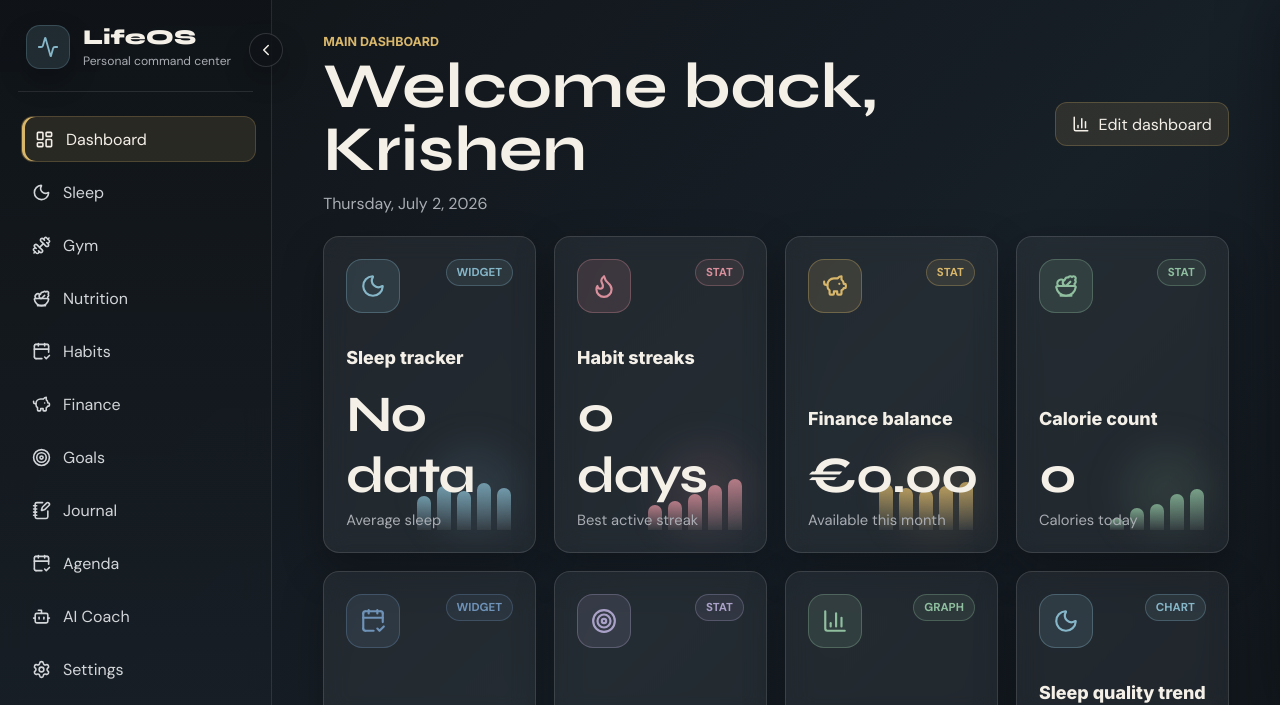
it: navigates to Sleep Tracker and saves a localStorage entry
Click the button "Sleep" at (136, 192), box [18, 169, 253, 215]
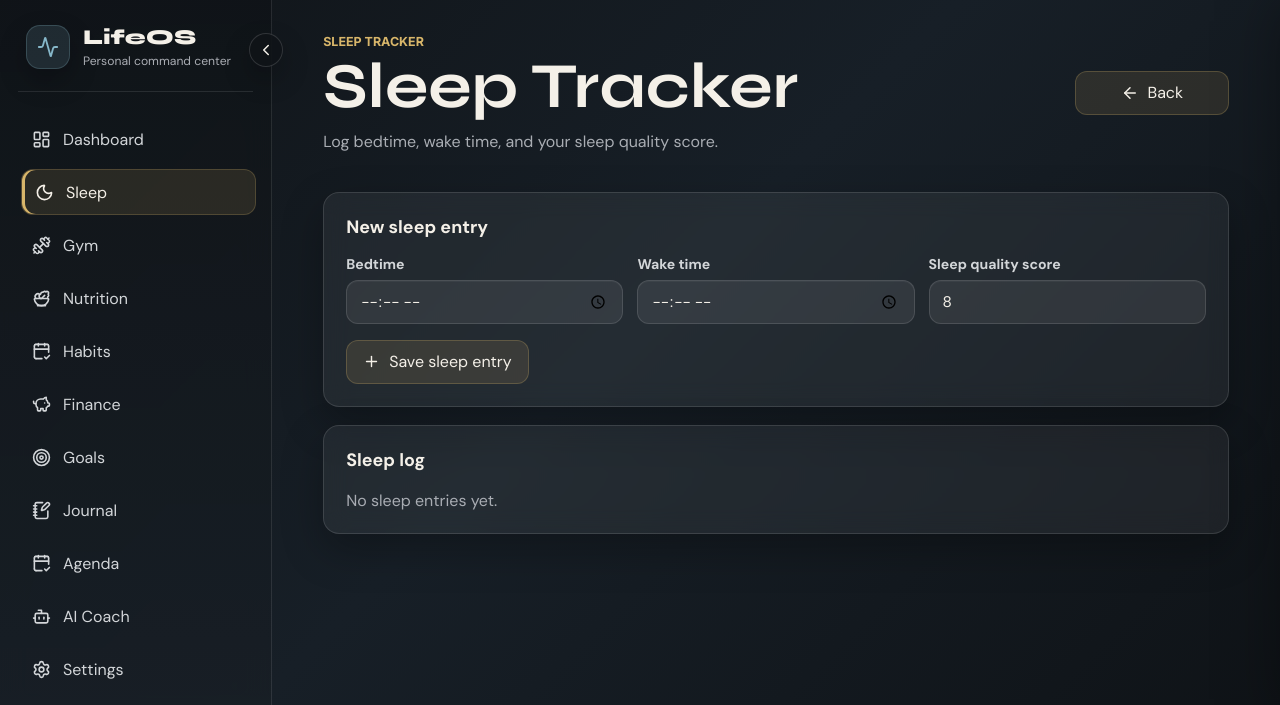
Expected: the heading "Sleep Tracker" is shown, [323, 56, 798, 119]
Type "22:30" into the time field labelled "Bedtime" at (485, 302), box [346, 280, 623, 324]
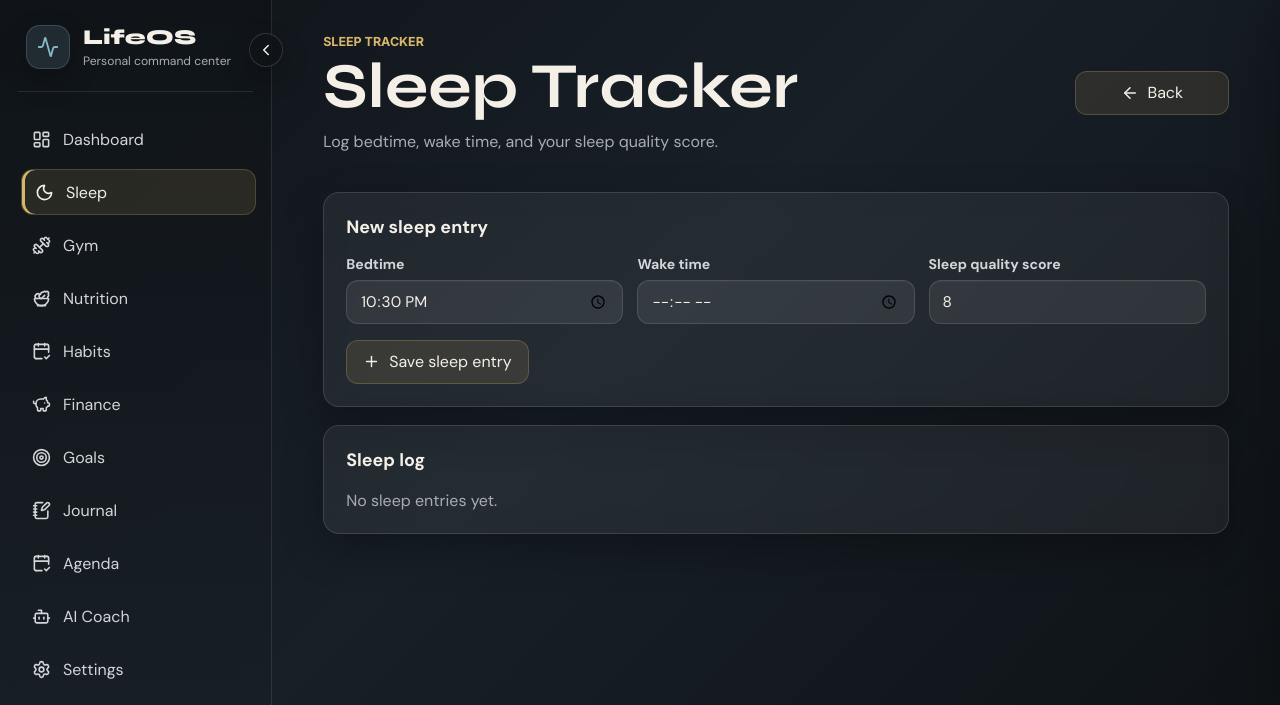
Type "06:45" into the time field labelled "Wake time" at (776, 302), box [637, 280, 915, 324]
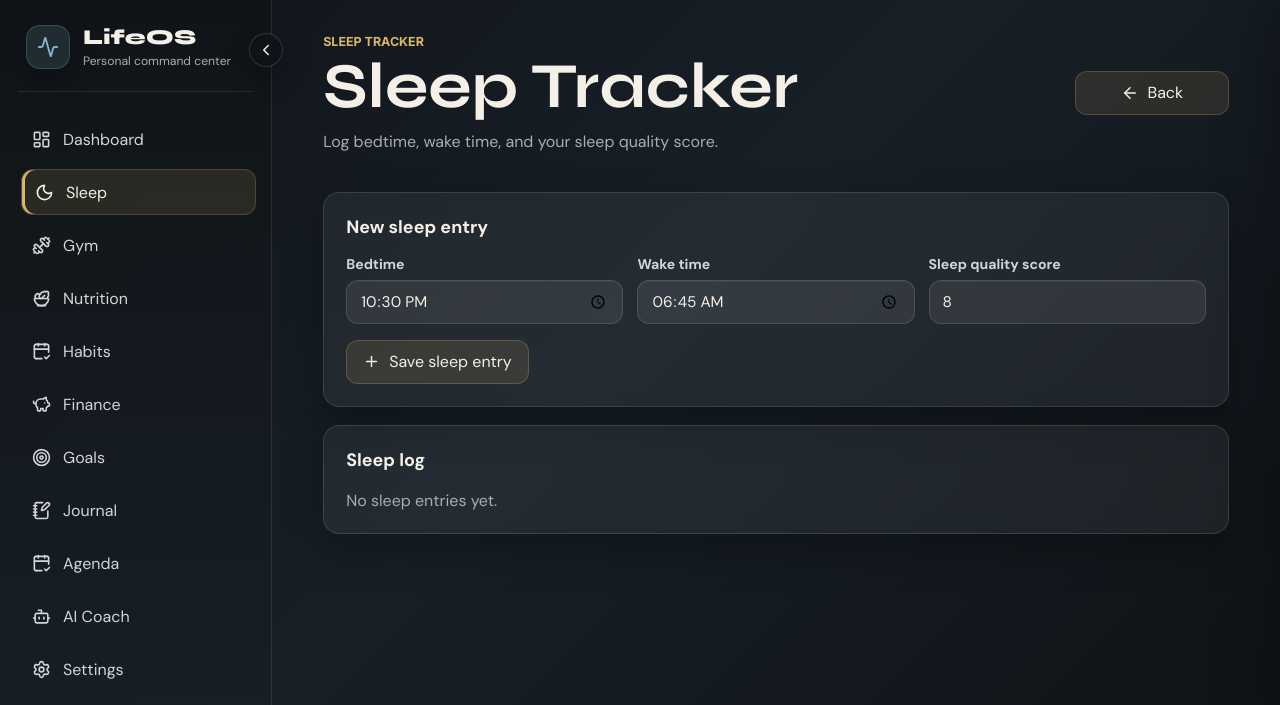
Replace the text in the number field labelled "Sleep quality score" with "9" at (1067, 302), box [929, 280, 1206, 324]
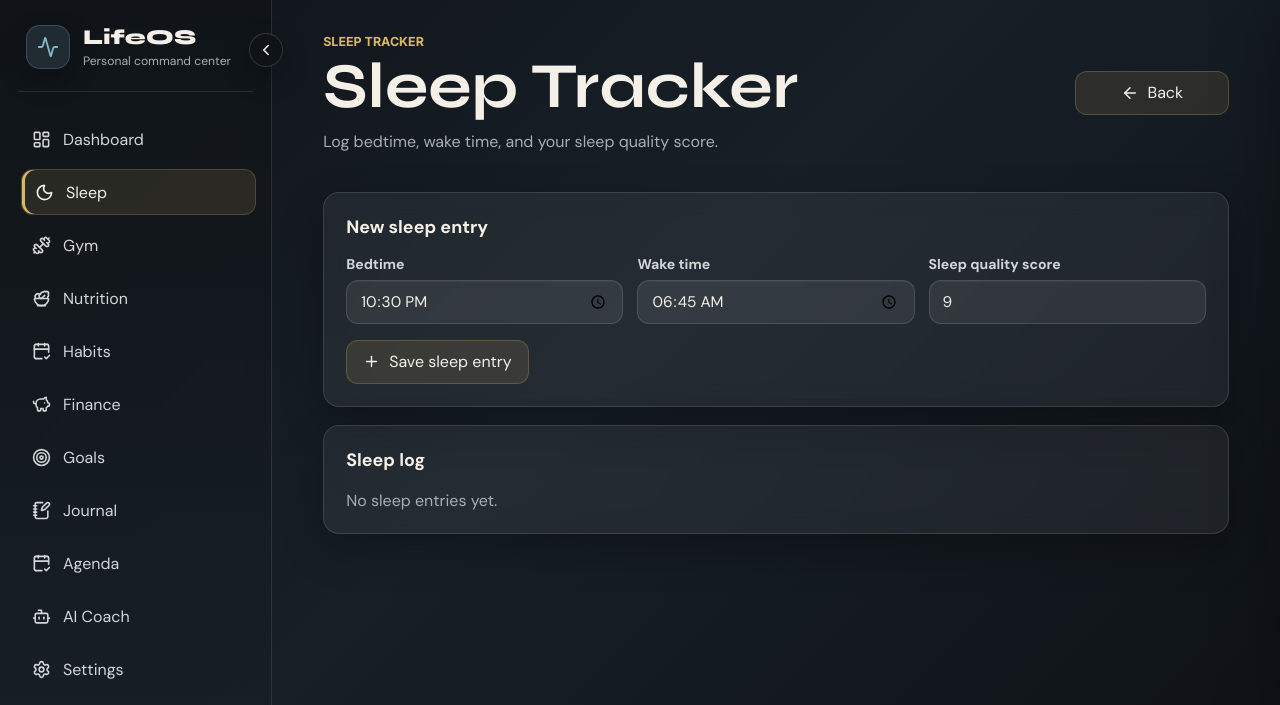
Click the button "Save sleep entry" at (437, 362), box [346, 340, 529, 384]
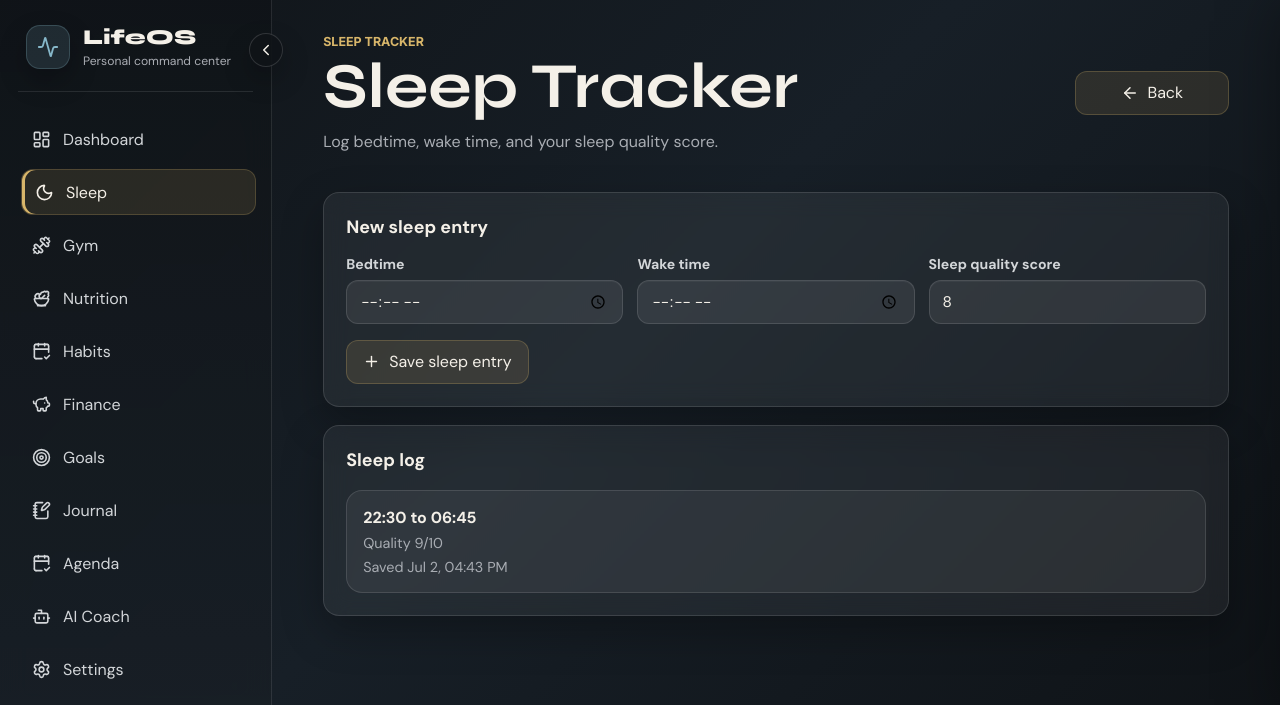
Expected: the text "22:30 to 06:45" is shown, [363, 507, 476, 528]
Expected: the text "Quality 9/10" is shown, [363, 534, 443, 552]
